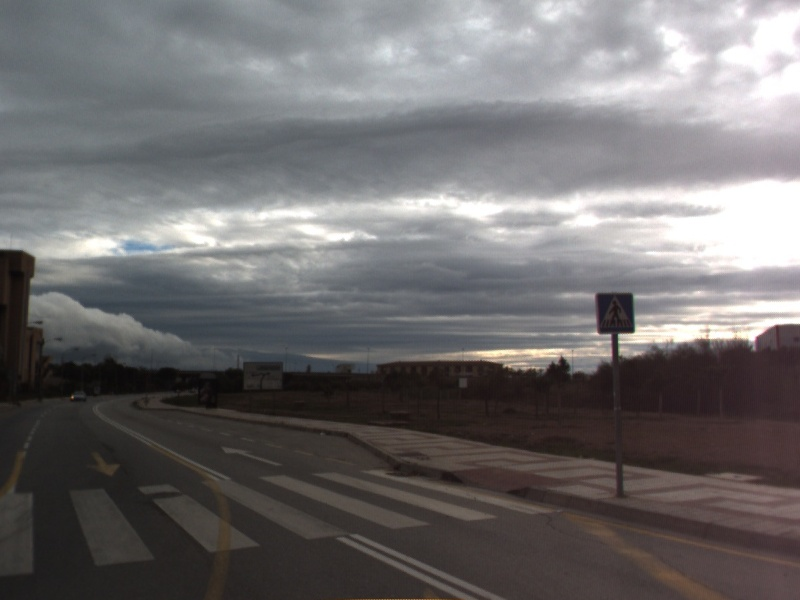STRAIGHT: (219, 444, 285, 468)
